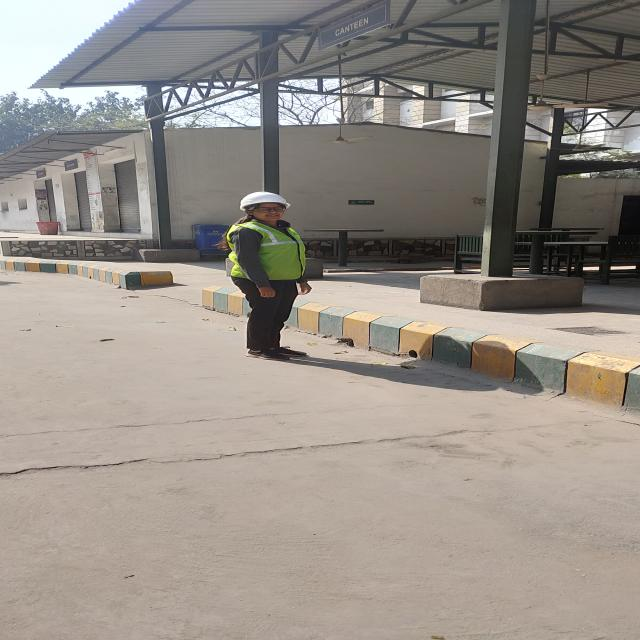safe: (227, 192, 312, 360)
